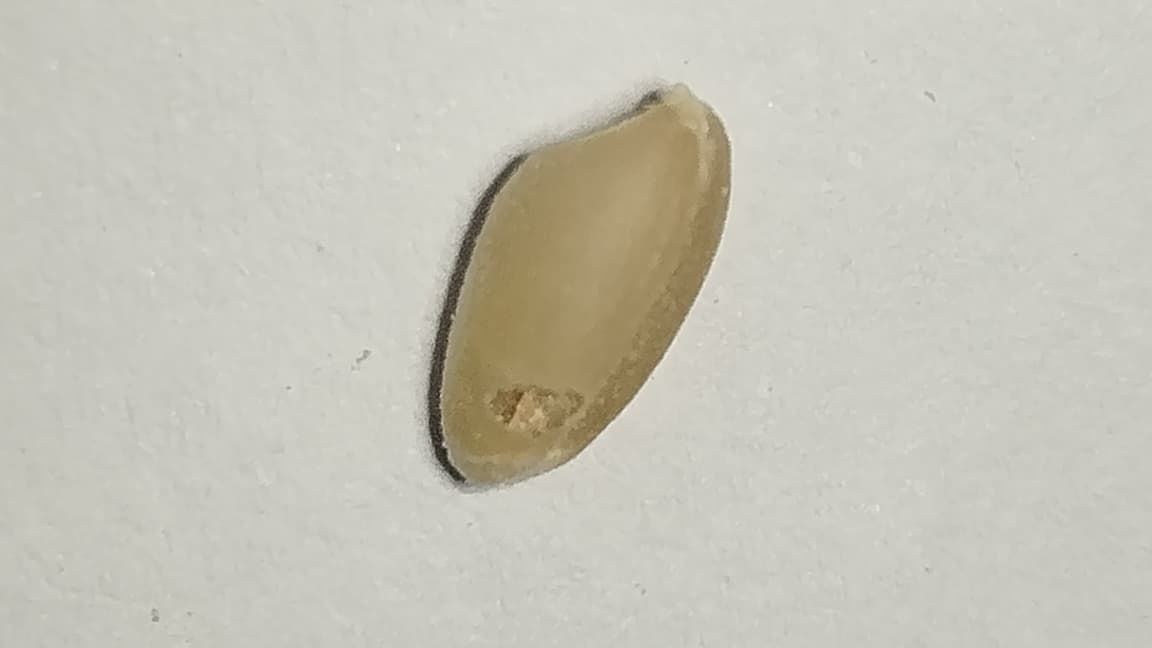damage: (429, 85, 732, 493)
insectdamage: (516, 78, 730, 158), (470, 363, 585, 440)
